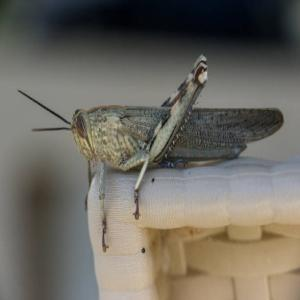locust: (42, 57, 300, 208)
